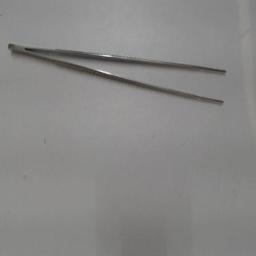DeBakey Dissector: (4, 38, 230, 116)
